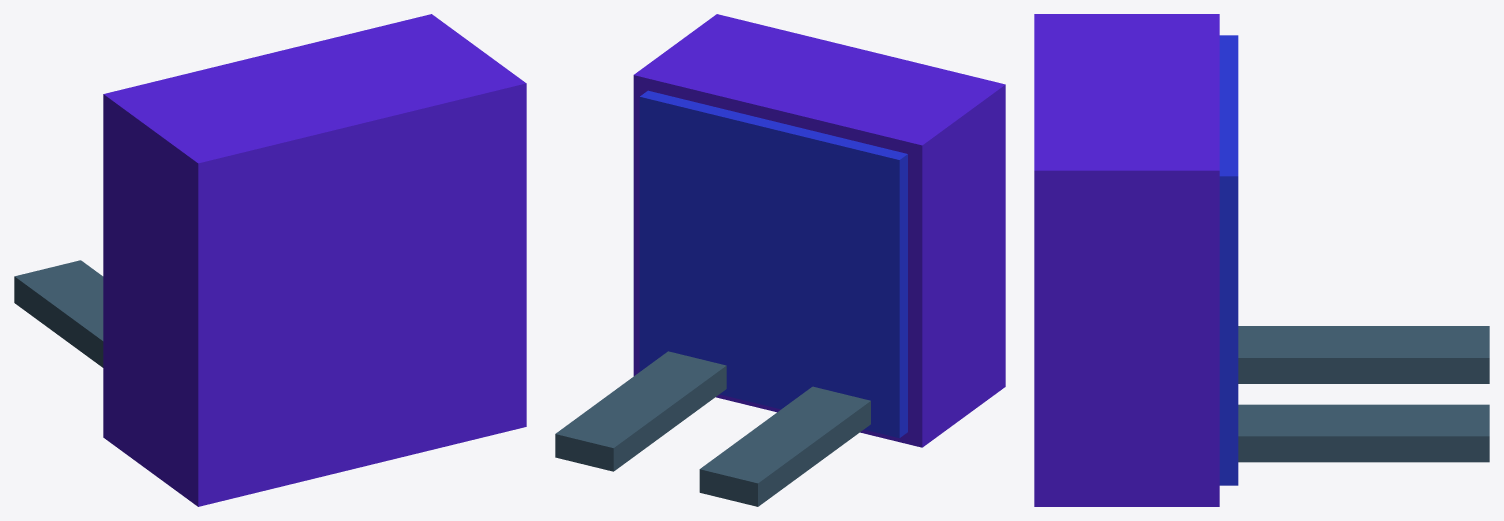
The model's file is moverBot.fbx.
3 views of the same model, side by side, from view 1: azimuth 30°, elevation 25°; view 2: azimuth 150°, elevation 25°; view 3: azimuth 270°, elevation 25° (orthographic). The views are drawn at different scales.
Visible parts, largest first — view 1: RobotBase, Fork2; view 2: ForkBase, RobotBase, Fork1, Fork2; view 3: RobotBase, Fork1, Fork2, ForkBase.
Part boxes in pixels (x1,y1,x2,y2): RobotBase: (103,14,526,506); Fork2: (14,260,103,367); ForkBase: (639,90,907,438); RobotBase: (633,14,1005,447); Fork1: (555,351,726,471); Fork2: (699,386,870,506); RobotBase: (1034,14,1219,506); Fork1: (1238,404,1489,462); Fork2: (1238,326,1489,383); ForkBase: (1219,35,1238,485).
Size of the model in its own units: 200 by 200 by 245.
